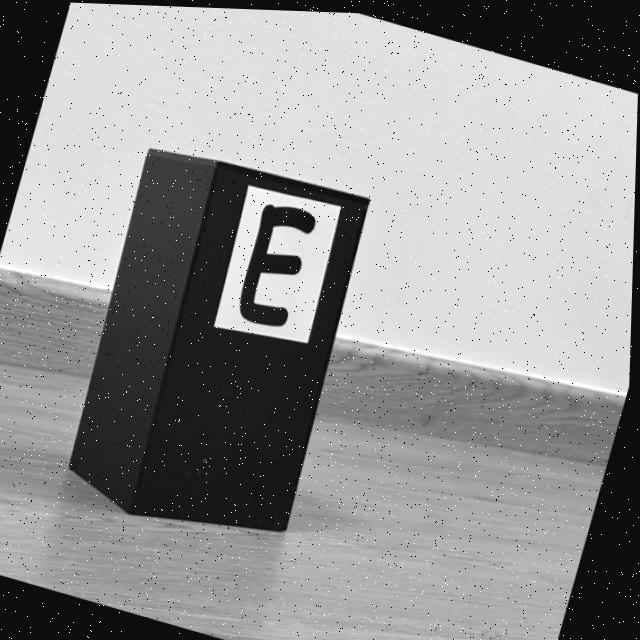E: (241, 202, 316, 325)
